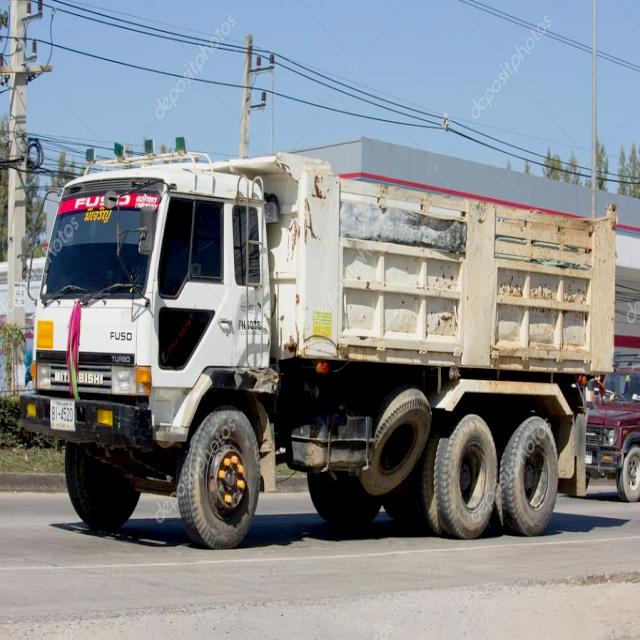truck: (23, 137, 617, 533)
